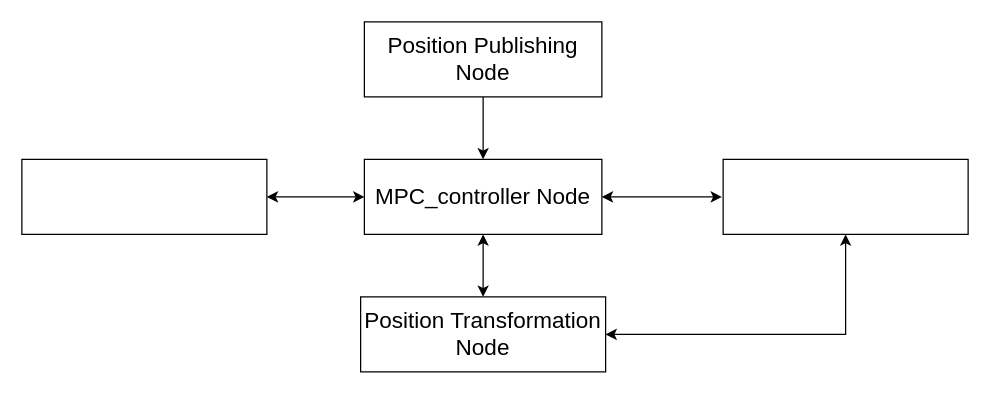
This 990x394 diagram has some shape labels left out. Each missing label, with the centre of its shape:
"Robot Controller Node" belongs at point 845,196.
"Target Tracker Node" belongs at point 144,196.
